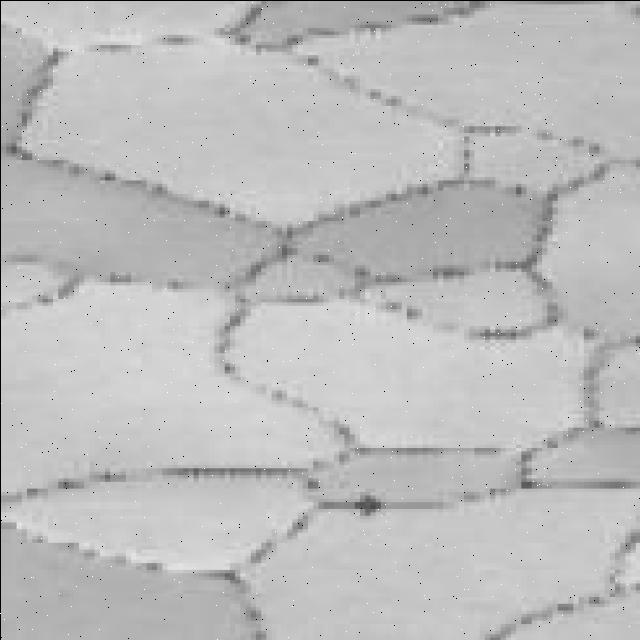good_void: (357, 492, 382, 514)
